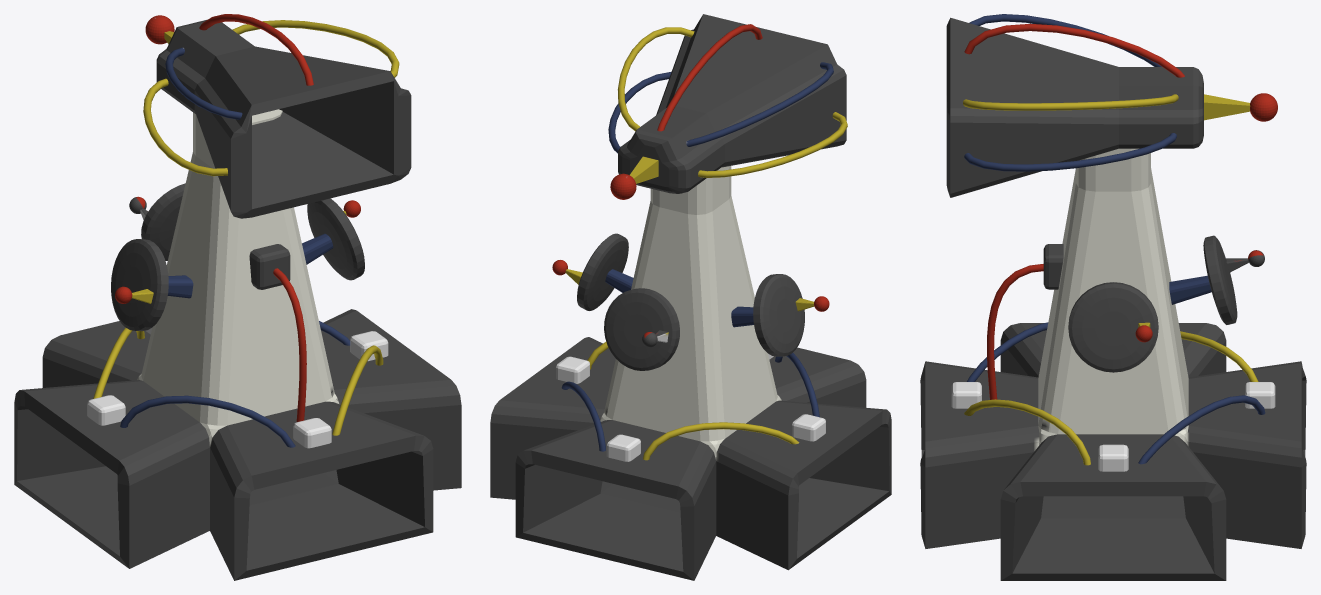
The model's file is Escupidora.fbx.
3 renders of one model, left to right at view 1: azimuth 30°, elevation 25°; view 2: azimuth 150°, elevation 25°; view 3: azimuth 270°, elevation 25°, orthographic. The views are drawn at different scales.
Visible parts, largest first — view 1: Cube, Cube.004, Cylinder.010, Cylinder.002, Cylinder.001, Cube.001, Cube.005, Cube.003; view 2: Cube, Cube.004, Cylinder.001, Cylinder.010, Cylinder.002, Cube.002, Cube.005, Cube.003; view 3: Cube, Cube.004, Cylinder.002, Cylinder.001, Cube.003, Cube.001, Cube.002.
Boxes of the visible parts, left/top/right/bottom form: Cube: left=14, top=109, right=461, bottom=580; Cube.004: left=143, top=14, right=411, bottom=218; Cylinder.010: left=111, top=239, right=168, bottom=331; Cylinder.002: left=307, top=198, right=364, bottom=280; Cylinder.001: left=129, top=183, right=185, bottom=260; Cube.001: left=293, top=418, right=331, bottom=448; Cube.005: left=87, top=395, right=125, bottom=425; Cube.003: left=350, top=331, right=388, bottom=361; Cube: left=490, top=166, right=891, bottom=580; Cube.004: left=608, top=14, right=847, bottom=199; Cylinder.001: left=604, top=288, right=679, bottom=370; Cylinder.010: left=753, top=274, right=829, bottom=356; Cylinder.002: left=552, top=233, right=628, bottom=310; Cube.002: left=606, top=434, right=640, bottom=461; Cube.005: left=792, top=414, right=825, bottom=441; Cube.003: left=556, top=356, right=589, bottom=383; Cube: left=920, top=148, right=1306, bottom=580; Cube.004: left=946, top=14, right=1277, bottom=197; Cylinder.002: left=1068, top=282, right=1158, bottom=372; Cylinder.001: left=1203, top=235, right=1264, bottom=324; Cube.003: left=1098, top=444, right=1128, bottom=471; Cube.001: left=951, top=382, right=981, bottom=408; Cube.002: left=1245, top=382, right=1275, bottom=408.
Size of the model in its own units: 513 by 699 by 513.
